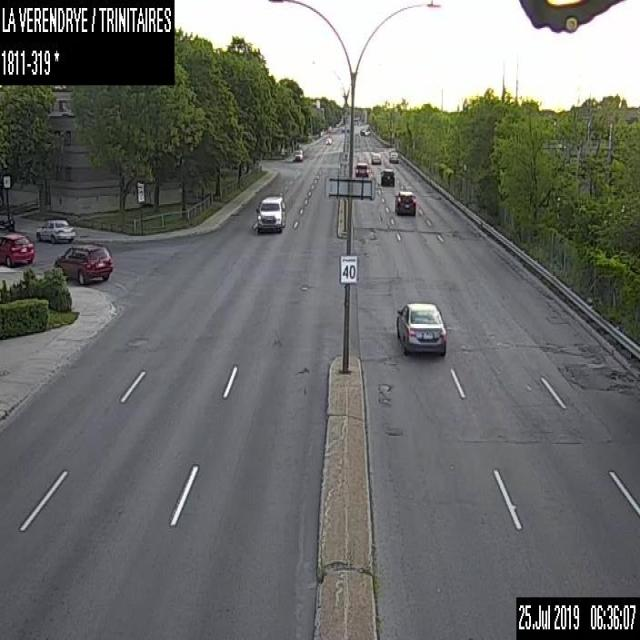vehicle: (396, 300, 448, 353), (53, 243, 113, 284), (0, 231, 34, 266), (256, 194, 284, 234), (36, 218, 76, 243), (394, 188, 416, 215), (379, 167, 395, 185), (354, 161, 368, 176), (292, 148, 303, 160), (388, 149, 398, 162), (370, 151, 380, 163), (325, 137, 331, 144)
